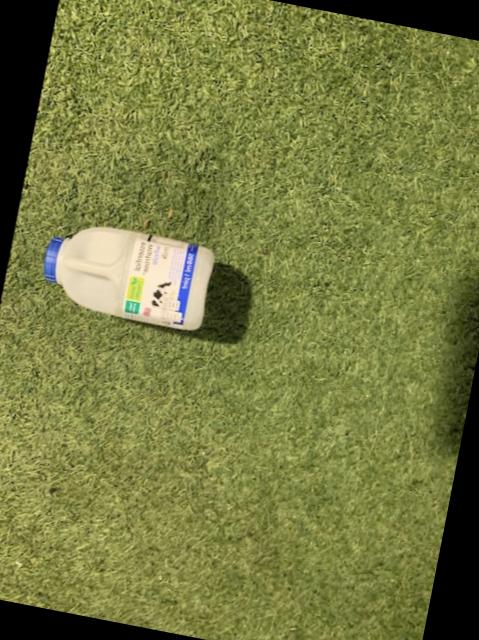plastic: (44, 226, 215, 328)
